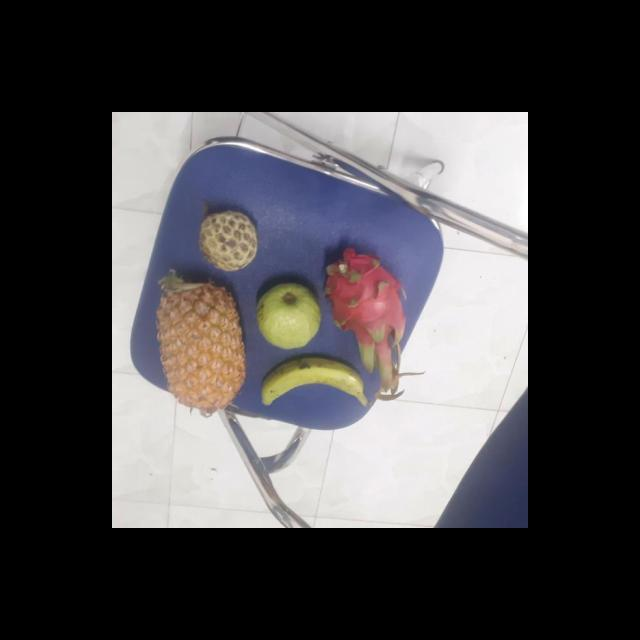Sakya fruit: (195, 210, 257, 270)
banana: (252, 352, 374, 428)
guava: (250, 282, 322, 350)
pineapple: (150, 274, 248, 411)
pitaya: (322, 255, 406, 372)
